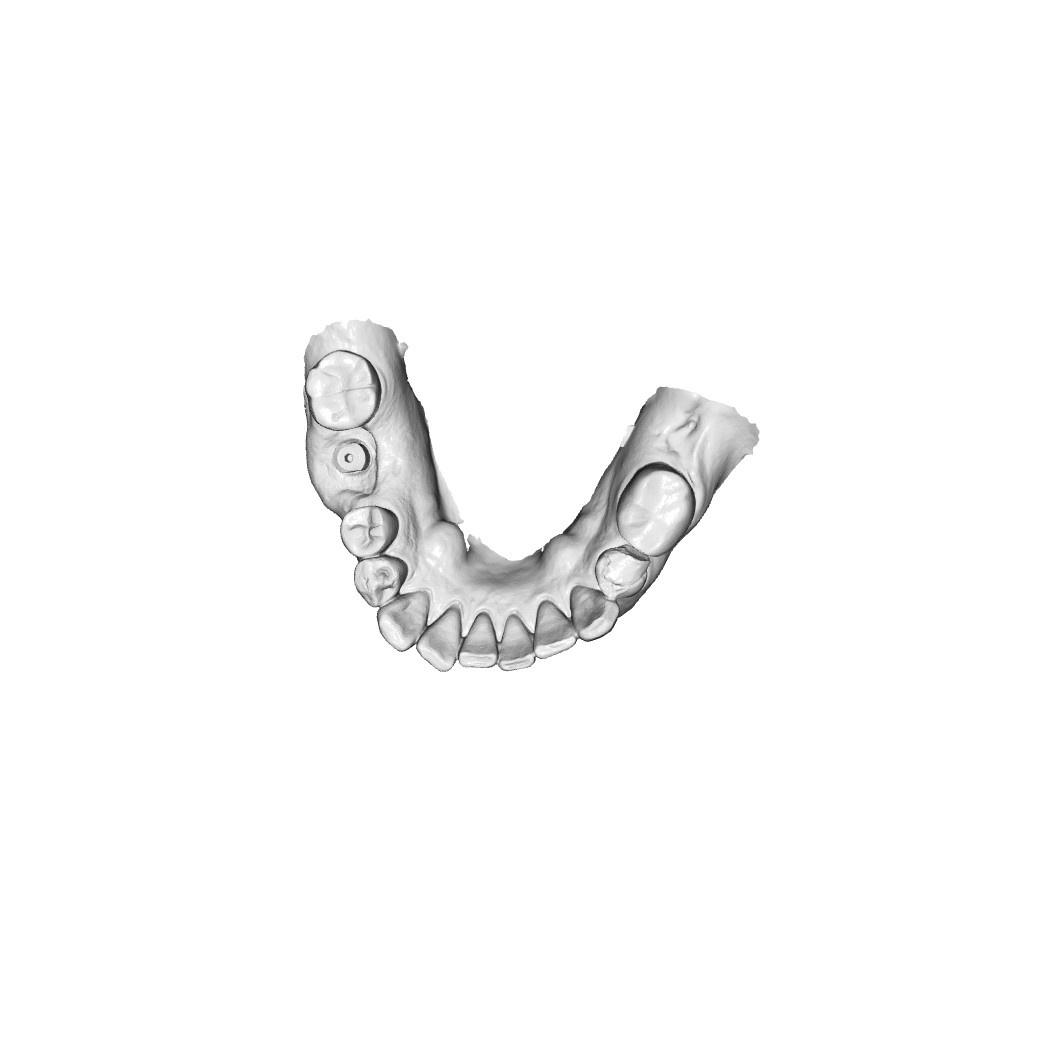canine: (569, 585, 618, 647), (375, 597, 428, 654)
implant: (337, 440, 369, 479)
incisor: (532, 601, 578, 662), (494, 615, 537, 675), (457, 616, 500, 671), (417, 620, 458, 675)
molar: (612, 462, 699, 557), (302, 348, 383, 432)
premolar: (592, 546, 652, 601), (339, 503, 394, 557), (352, 557, 402, 607)
